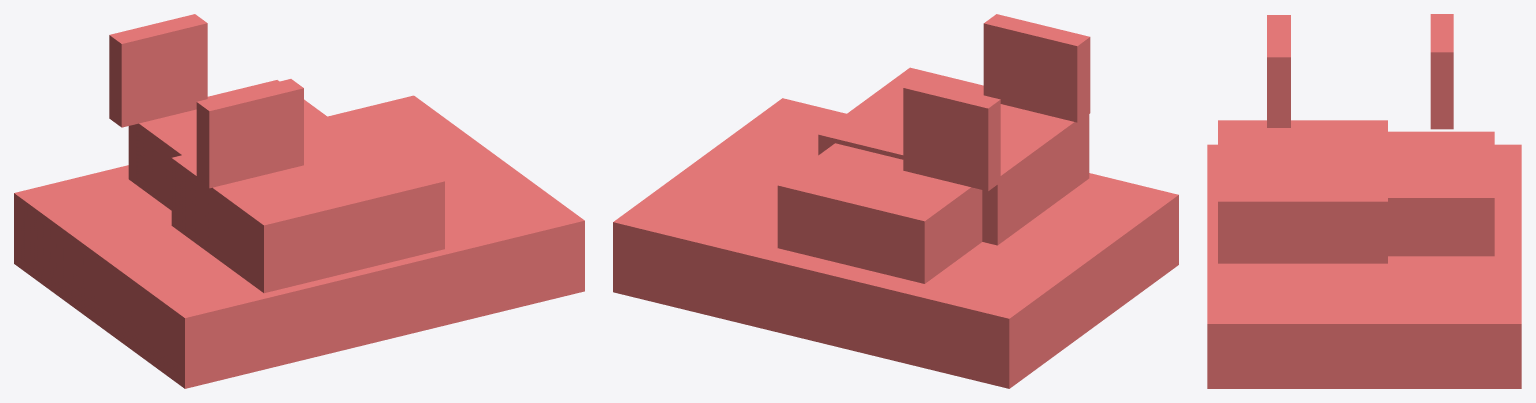
The model's file is created_info.dae.
3 renders of one model, left to right at view 1: azimuth 30°, elevation 25°; view 2: azimuth 150°, elevation 25°; view 3: azimuth 270°, elevation 25°, orthographic. The views are drawn at different scales.
Parts seen in each view (by area): view 1: base (×5); view 2: base (×5); view 3: base (×5).
Boxes of the visible parts, <box> form: base (×5): <box>14,14,584,388</box>; base (×5): <box>613,14,1178,388</box>; base (×5): <box>1207,14,1521,388</box>.
Bounding box in the file's own units: 0.7096 × 0.5254 × 0.4098.
